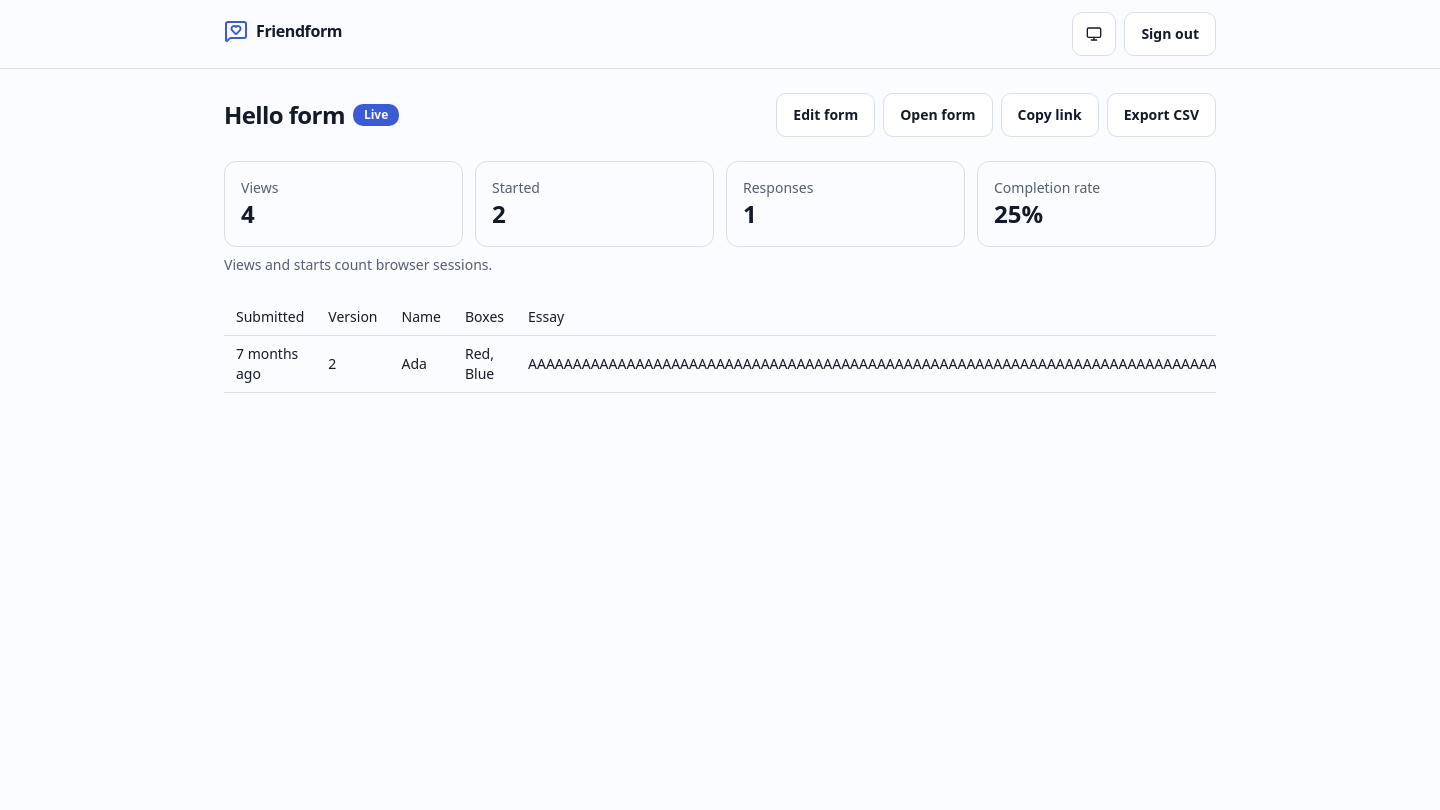
Test: ResponsesPage › shows other answers in the detail and deletes the response
This screenshot has width=1440, height=810.
Click the cell "Ada": (421, 364) [390,336,453,392]
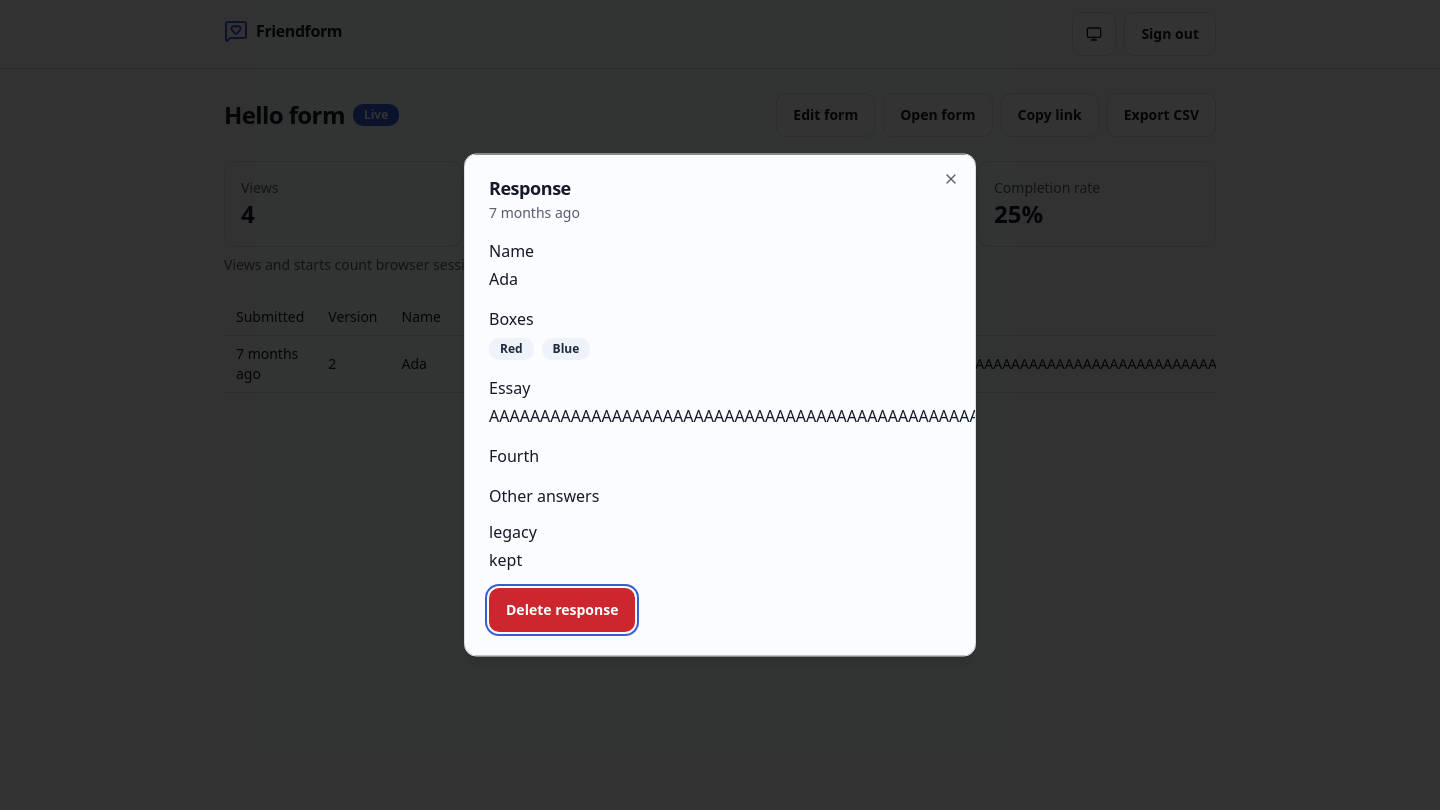
Check: the heading "Other answers" is shown, box [489,484,599,506]
Check: the text "legacy" is shown, box [489,520,537,542]
Check: the text "kept" is shown, box [489,548,522,570]
Click the button "Delete response": (562, 610) [489,588,635,632]
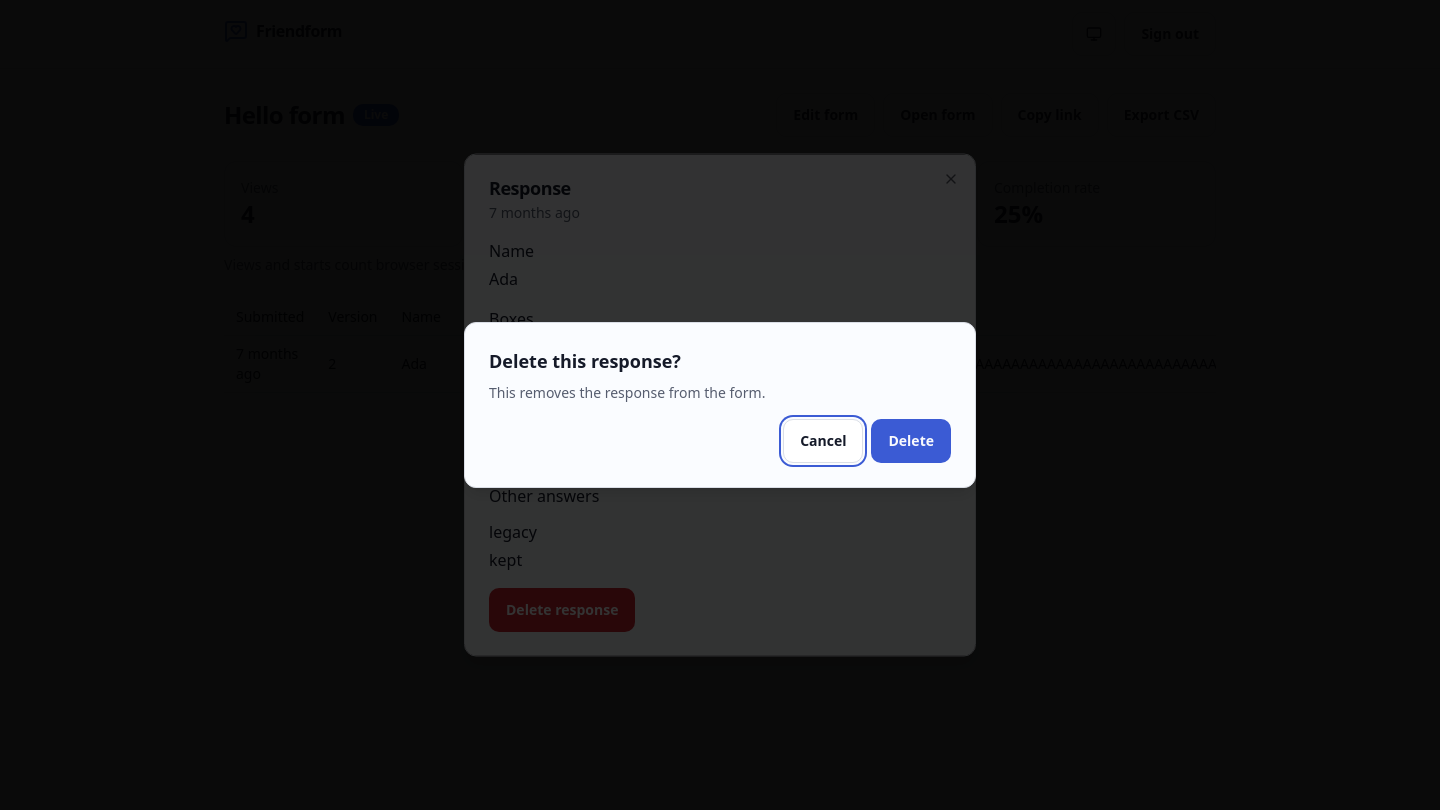
Click the button "Delete": (911, 441) [872,419,951,463]
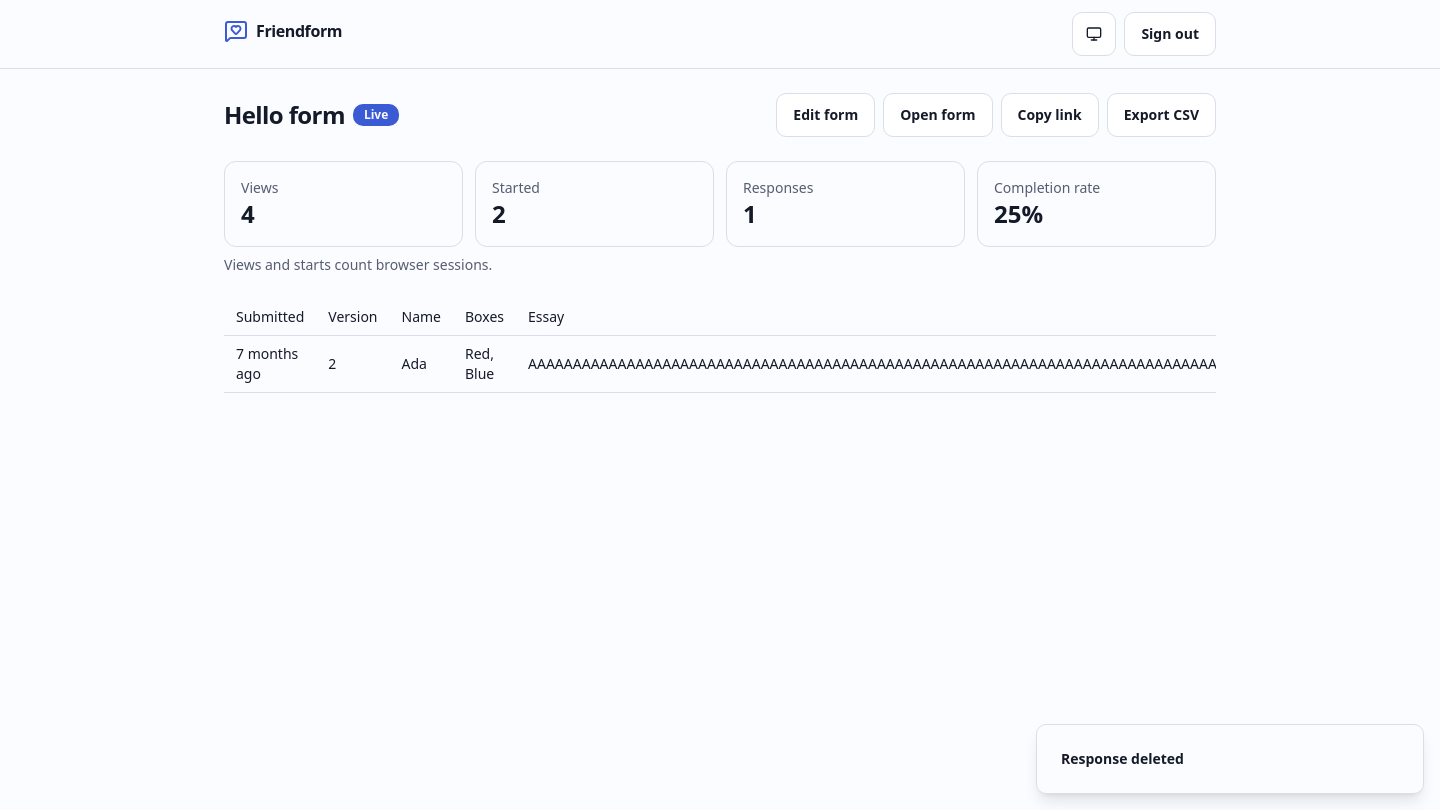
Check: the text "Response deleted" is shown, box [1061,749,1184,769]
